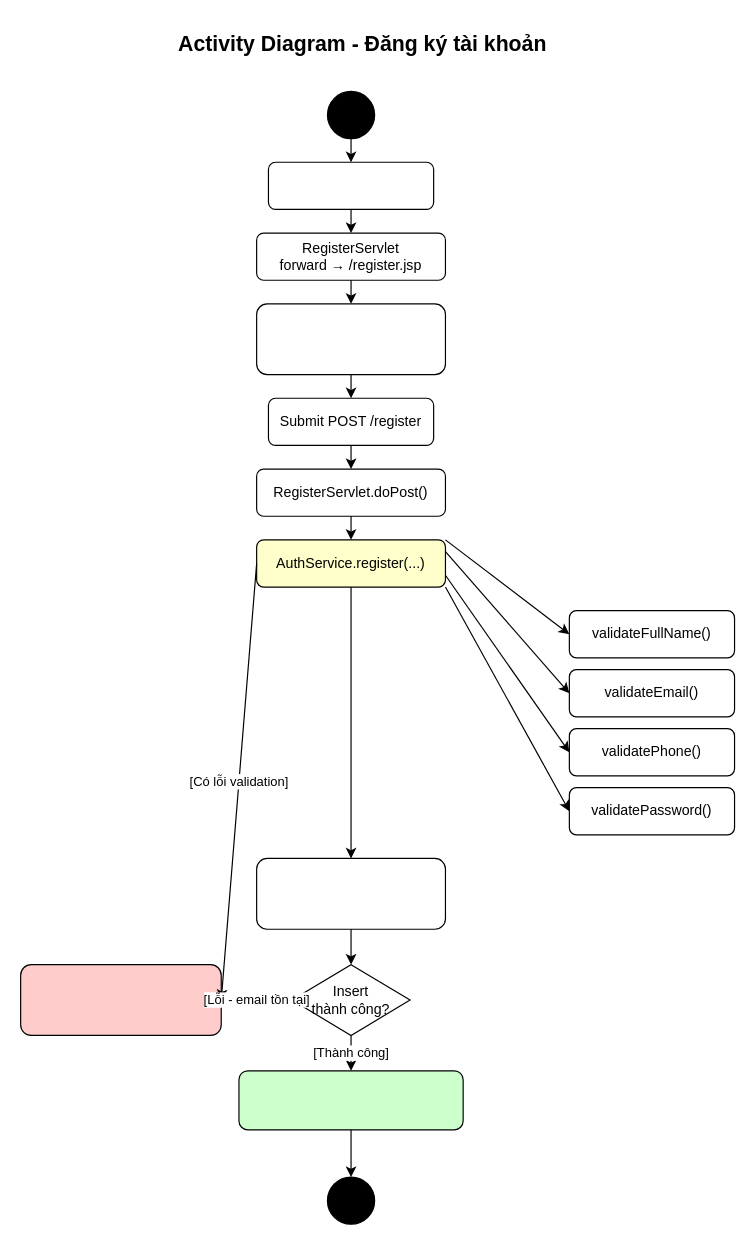
Image size: 755x1245. Some labels were removed from this diagram. The centre of each missing label's shape, as x and y in pixels:
redirect → /login?msg=register_success: [350,1100]
Set attribute error forward /register.jsp (giữ lại dữ liệu đã nhập): [120,999]
User mở /register: [350,185]
User điền form: fullName, email, phone, address, password: [350,339]
UserDAO.insert(user) với role=CUSTOMER, status=ACTIVE: [350,893]
